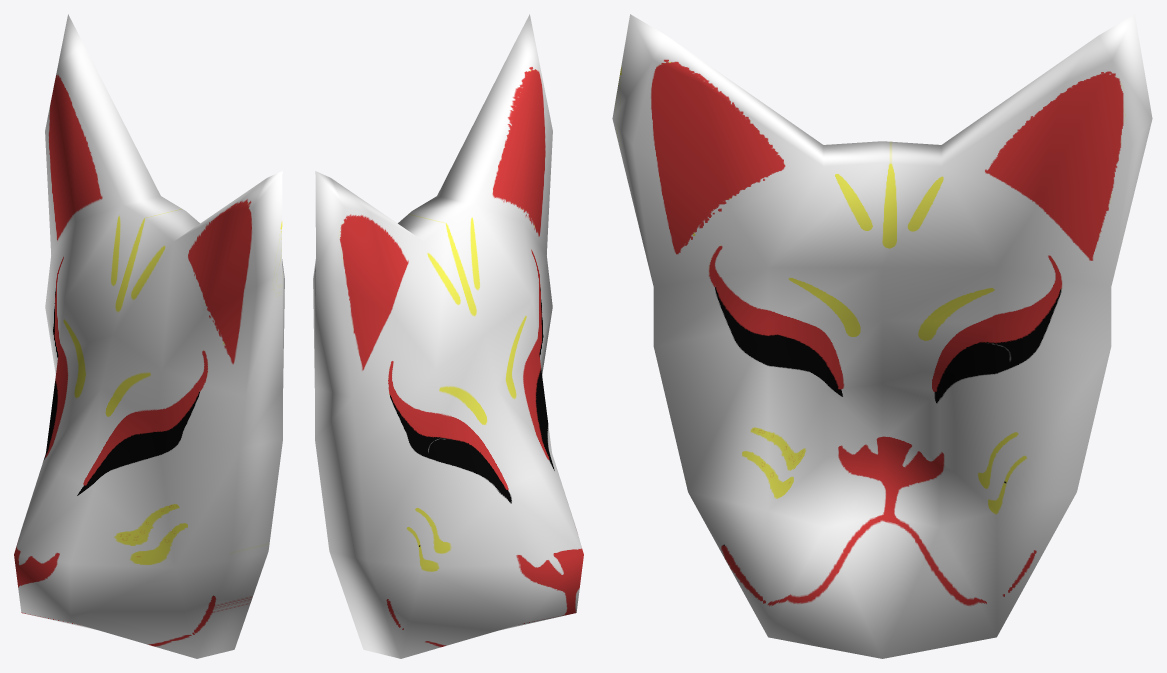
The model's file is foxmask.FBX.
3 views of the same model, side by side, from view 1: azimuth 30°, elevation 25°; view 2: azimuth 150°, elevation 25°; view 3: azimuth 270°, elevation 25° (orthographic). The views are drawn at different scales.
Visible parts, largest first — view 1: Box001; view 2: Box001; view 3: Box001.
Boxes of the visible parts, <box> form: Box001: <box>14,14,284,658</box>; Box001: <box>313,14,583,658</box>; Box001: <box>612,14,1152,658</box>.
Size of the model in its own units: 9.13 by 27.51 by 21.08.
Materials: 1 (1 with a texture image).
